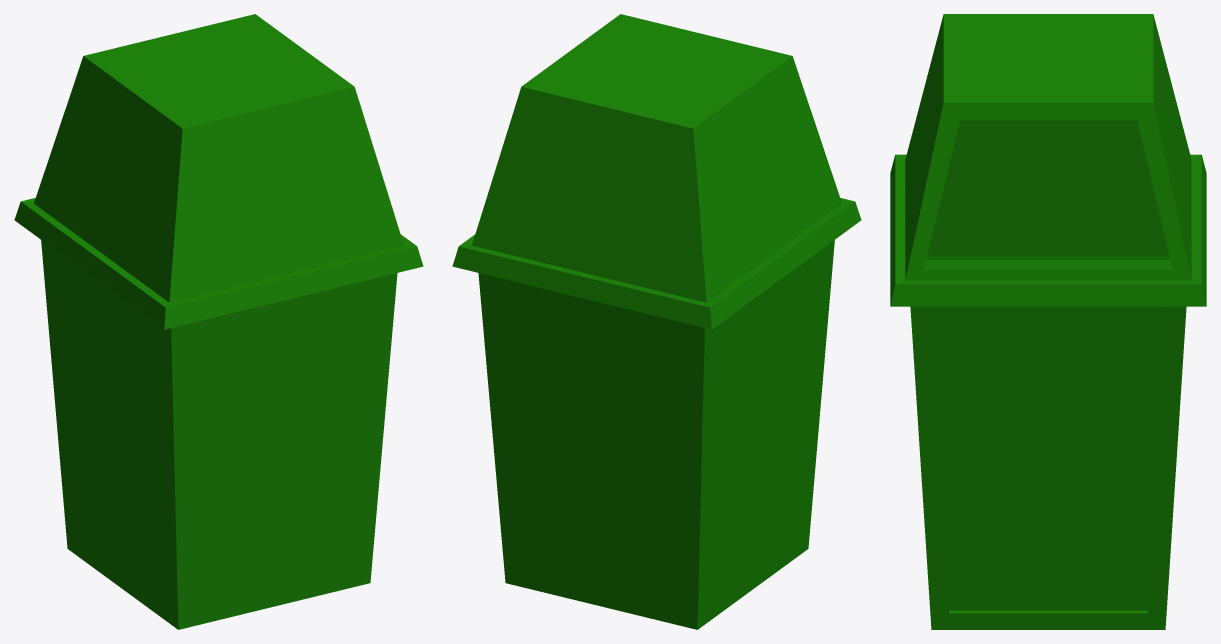
File: Prop_Trashbin.fbx
3 renders of one model, left to right at view 1: azimuth 30°, elevation 25°; view 2: azimuth 150°, elevation 25°; view 3: azimuth 270°, elevation 25°, orthographic. The views are drawn at different scales.
Parts seen in each view (by area): view 1: Cube.019; view 2: Cube.019; view 3: Cube.019.
Boxes of the visible parts, <box> form: Cube.019: <box>14,14,423,629</box>; Cube.019: <box>452,14,861,629</box>; Cube.019: <box>890,14,1206,629</box>.
Size of the model in its own units: 158 by 288 by 158.
